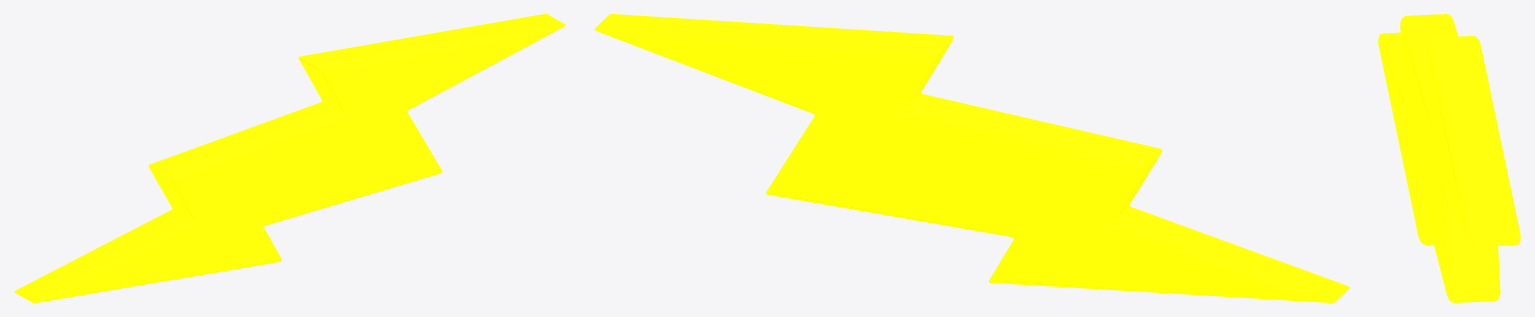
Rendered from Thunder_Animation.fbx.
3 views of the same model, side by side, from view 1: azimuth 30°, elevation 25°; view 2: azimuth 150°, elevation 25°; view 3: azimuth 270°, elevation 25° (orthographic). The views are drawn at different scales.
Visible parts, largest first — view 1: Thunder; view 2: Thunder; view 3: Thunder.
Boxes of the visible parts, bbox=[...] form: Thunder: bbox=[14, 14, 565, 302]; Thunder: bbox=[594, 14, 1349, 302]; Thunder: bbox=[1378, 14, 1520, 302].
Size of the model in its own units: 77.19 by 23.35 by 12.92.
